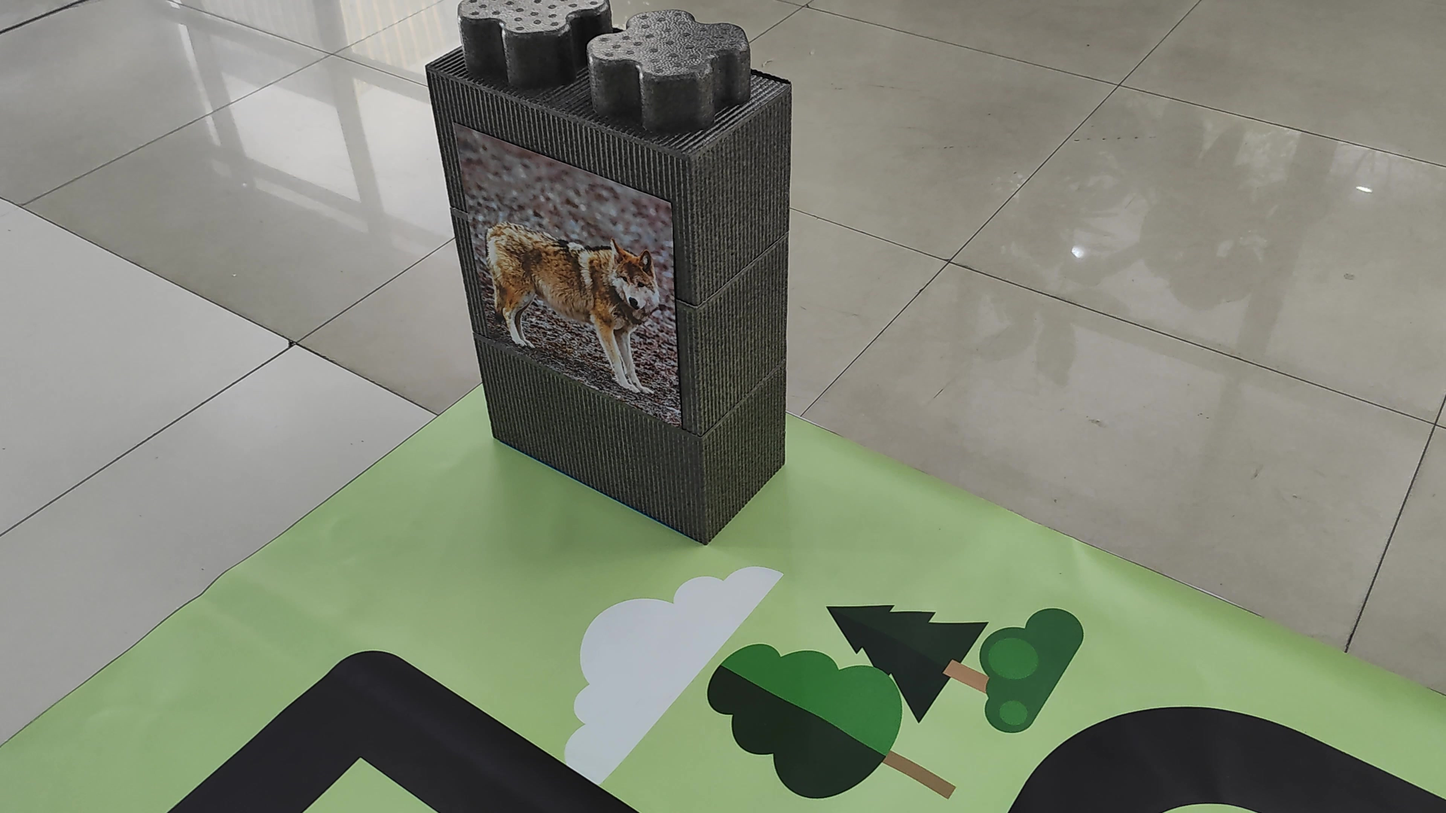wolf: (474, 162, 679, 423)
